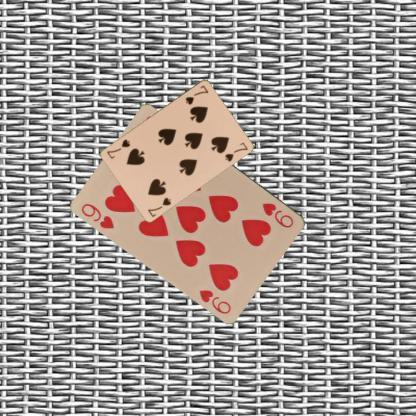7s: (145, 194, 172, 219), (182, 82, 210, 106)
9h: (78, 200, 116, 230), (260, 200, 296, 229)
